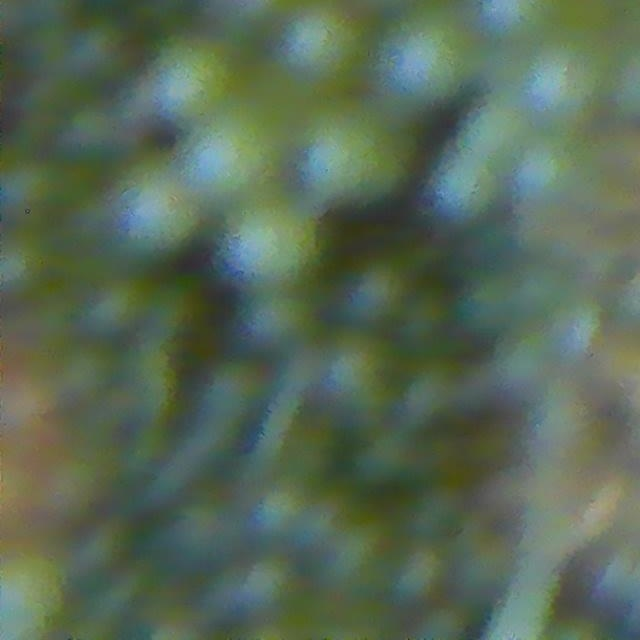SeaGrape: (304, 109, 410, 204), (216, 195, 315, 288), (145, 31, 237, 122), (382, 16, 469, 107), (311, 332, 395, 421), (513, 37, 597, 121), (283, 6, 370, 87), (127, 163, 196, 260), (184, 110, 263, 190), (509, 138, 586, 216), (0, 544, 66, 635), (214, 554, 296, 625), (235, 286, 316, 354), (427, 152, 498, 224), (339, 258, 411, 329), (0, 152, 63, 220), (461, 100, 526, 165), (0, 227, 53, 301), (544, 297, 605, 360)
